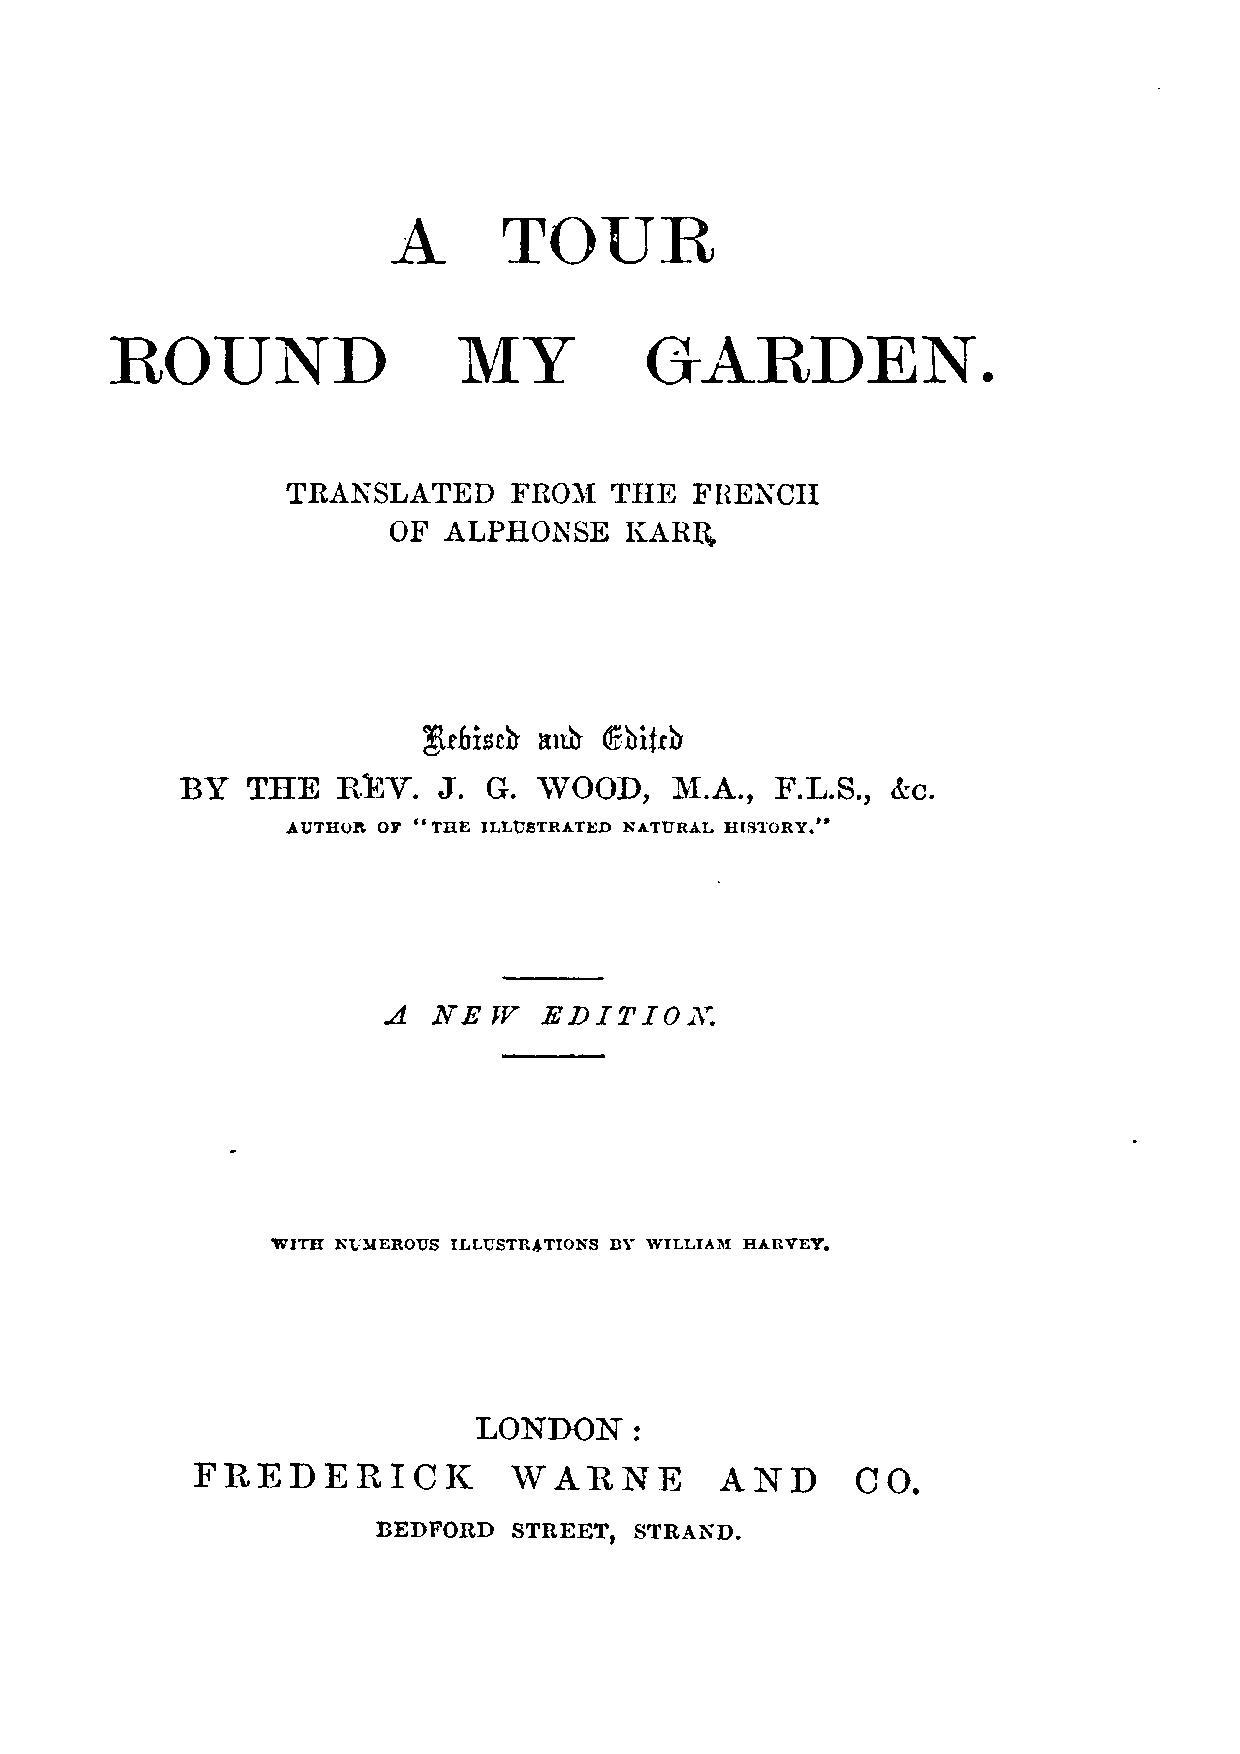author: (176, 773, 933, 807)
title: (106, 213, 992, 388)
